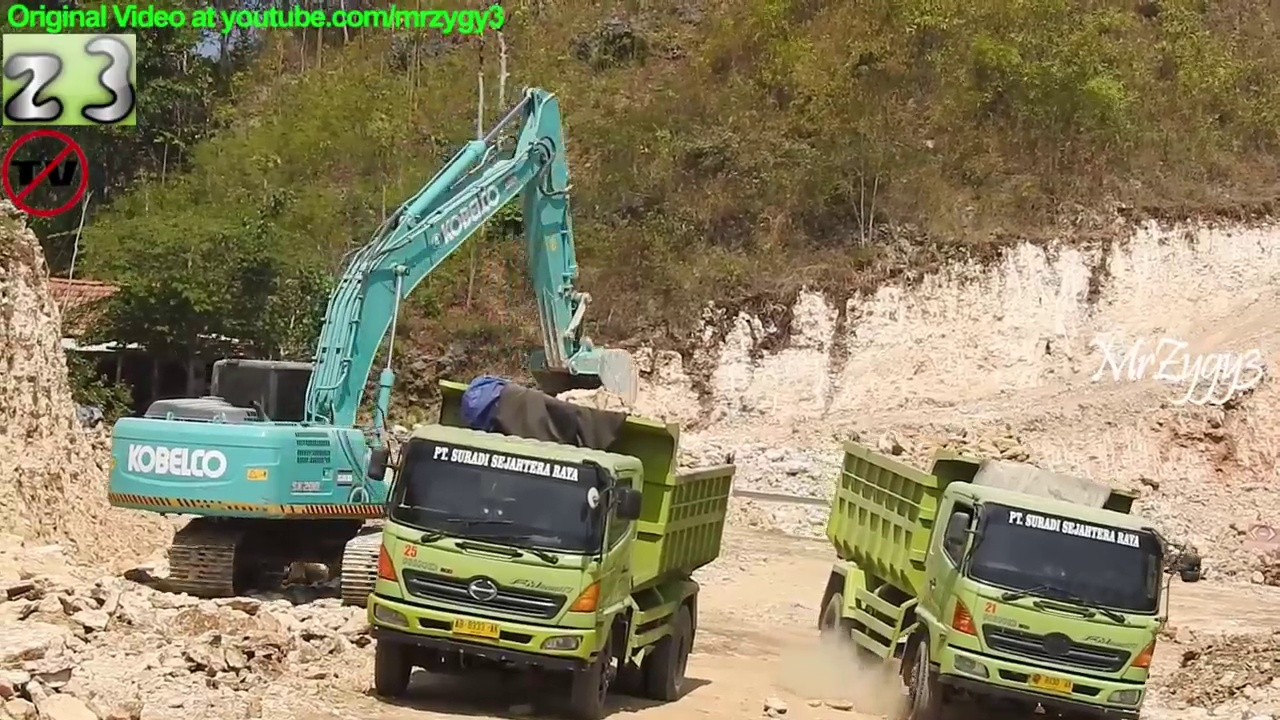excavator: (103, 79, 650, 621)
truck: (362, 372, 743, 720), (810, 430, 1209, 720)
